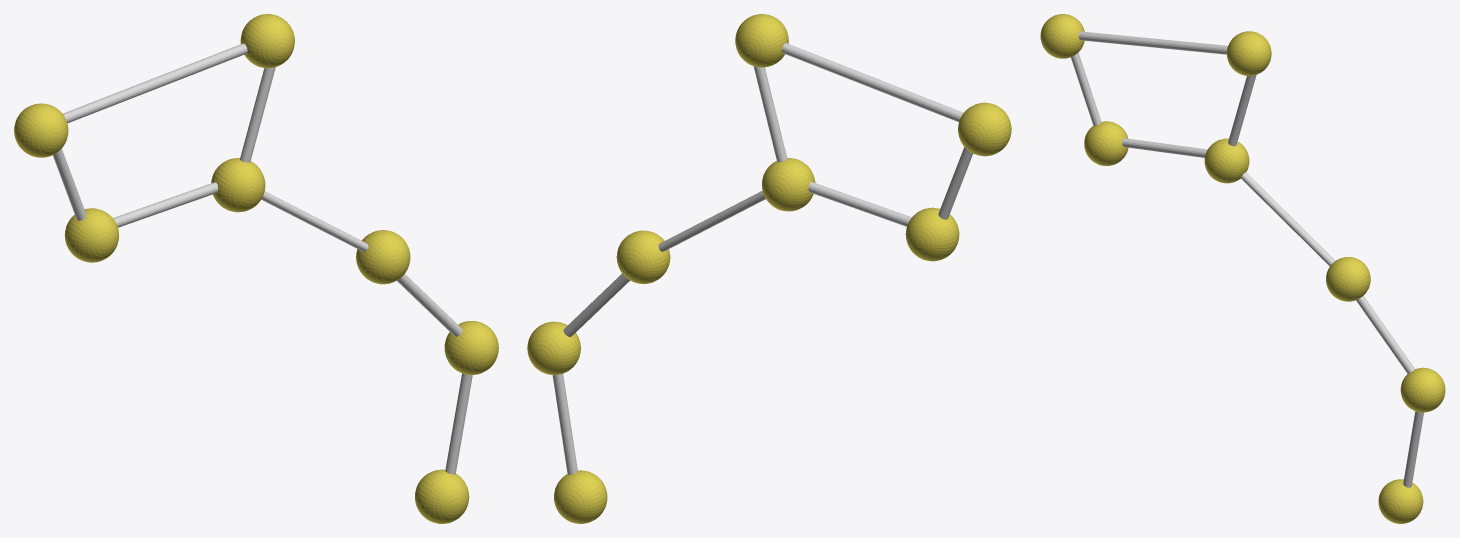
Rendered from small-dipper.glb.
The picture shows the model from 3 angles, left to right: view 1: azimuth 30°, elevation 25°; view 2: azimuth 150°, elevation 25°; view 3: azimuth 330°, elevation 25°; orthographic projection. The views are drawn at different scales.
Visible parts, largest first — view 1: Mesh_Mesh_head_geo.001_lambert2SG.001; view 2: Mesh_Mesh_head_geo.001_lambert2SG.001; view 3: Mesh_Mesh_head_geo.001_lambert2SG.001.
Boxes of the visible parts, x1,y1,x2,y2 form: Mesh_Mesh_head_geo.001_lambert2SG.001: (14, 14, 498, 523); Mesh_Mesh_head_geo.001_lambert2SG.001: (527, 14, 1011, 523); Mesh_Mesh_head_geo.001_lambert2SG.001: (1040, 14, 1445, 523).
Bounding box in the file's own units: 102 × 112 × 11.78.
